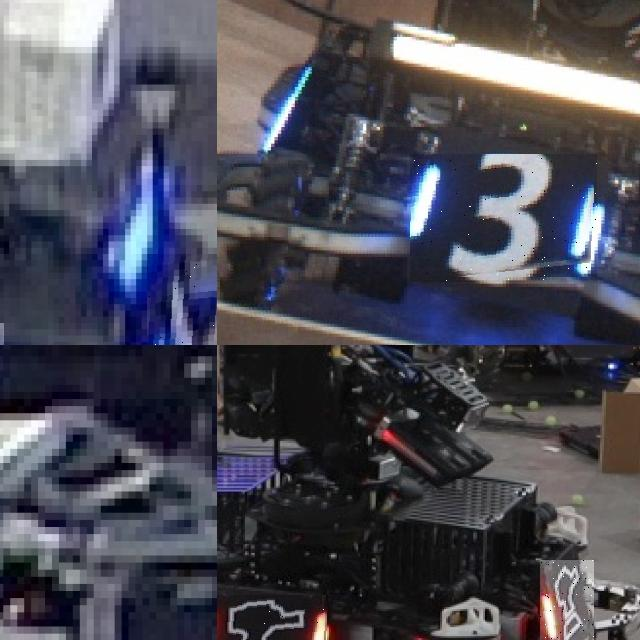B3: (410, 154, 597, 282)
B4: (147, 254, 217, 345)
Rs: (217, 594, 329, 640), (539, 560, 594, 640)
